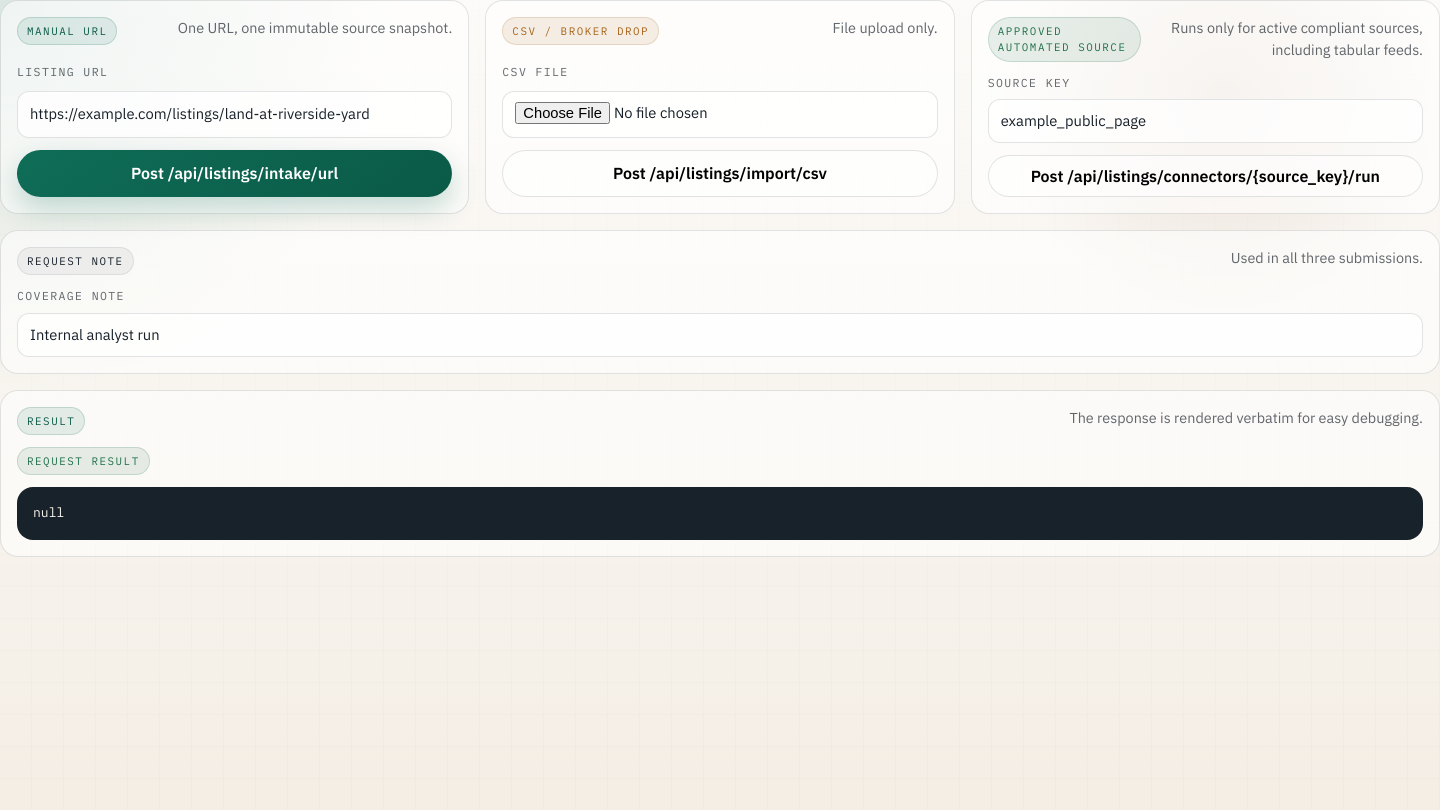
ListingRunPanel › submits manual URL runs and reports null payloads as API errors
The image size is (1440, 810).
Click the button "Post /api/listings/intake/url".
click(235, 173)  # box [17, 150, 452, 197]
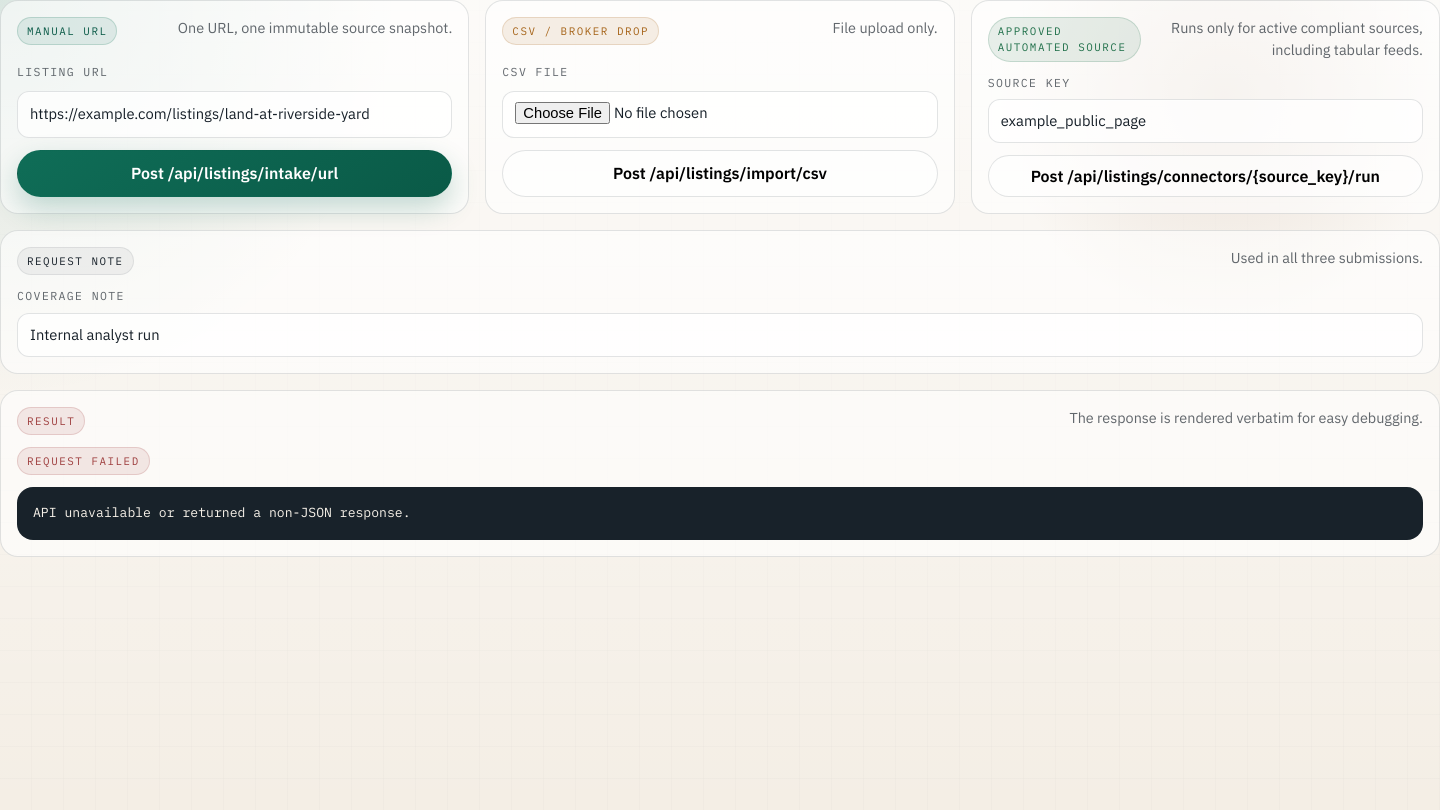
Result: the text "API unavailable or returned a non-JSON response." is shown at [17, 487, 1423, 540]
